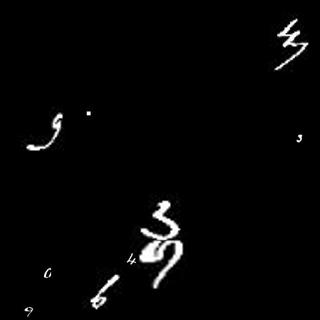dot: (86, 108, 94, 117)
four: (271, 14, 306, 43), (122, 252, 137, 267)
nine: (24, 106, 68, 152), (22, 306, 35, 317), (294, 134, 303, 143)
seven: (273, 42, 313, 73)
six: (87, 273, 121, 312)
three: (139, 199, 185, 241)
zero: (41, 264, 55, 280)
